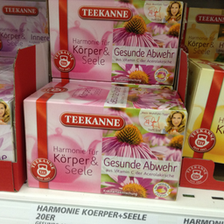tea: (21, 81, 187, 200), (47, 1, 183, 84)
